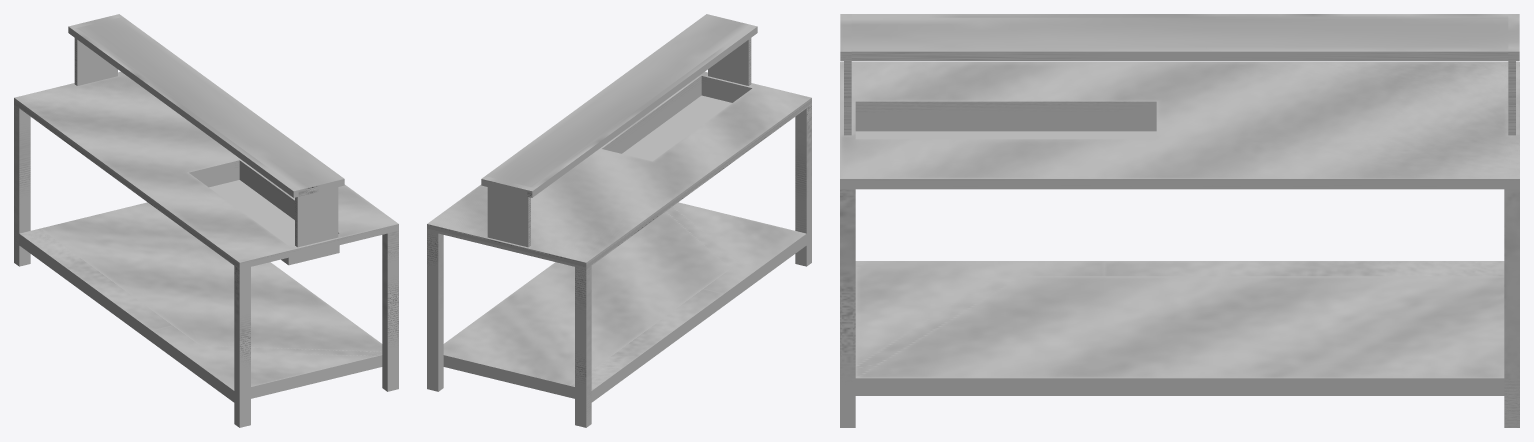
Rendered from topping_table.fbx.
3 renders of one model, left to right at view 1: azimuth 30°, elevation 25°; view 2: azimuth 150°, elevation 25°; view 3: azimuth 270°, elevation 25°, orthographic. The views are drawn at different scales.
Visible parts, largest first — view 1: Table, Top; view 2: Table, Top; view 3: Table, Top.
Part boxes in pixels (x1,y1,x2,y2): Table: [14, 71, 398, 427]; Top: [68, 14, 344, 247]; Table: [427, 71, 811, 427]; Top: [481, 14, 757, 247]; Table: [840, 62, 1519, 427]; Top: [840, 14, 1519, 135].
Size of the model in its own units: 103 by 138 by 252.
